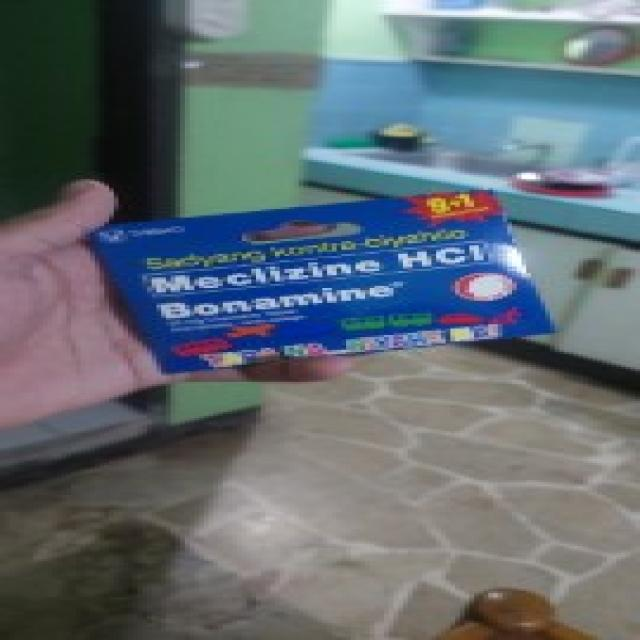Cacat: (61, 186, 562, 376)
